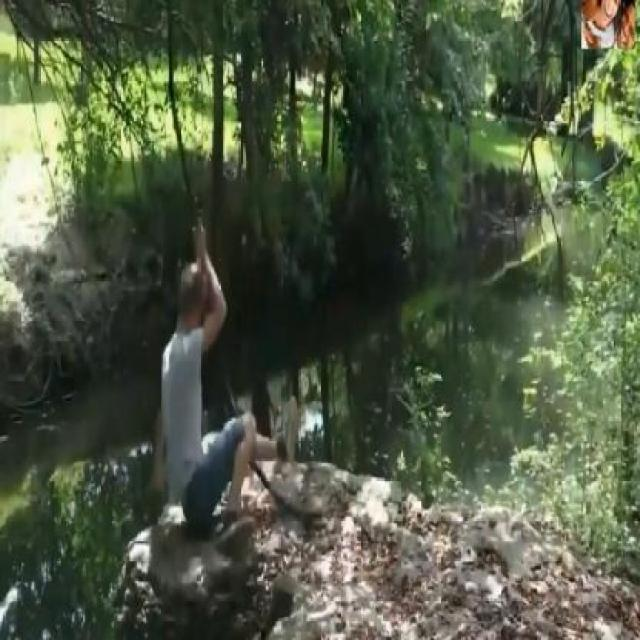fall: (152, 218, 303, 550)
